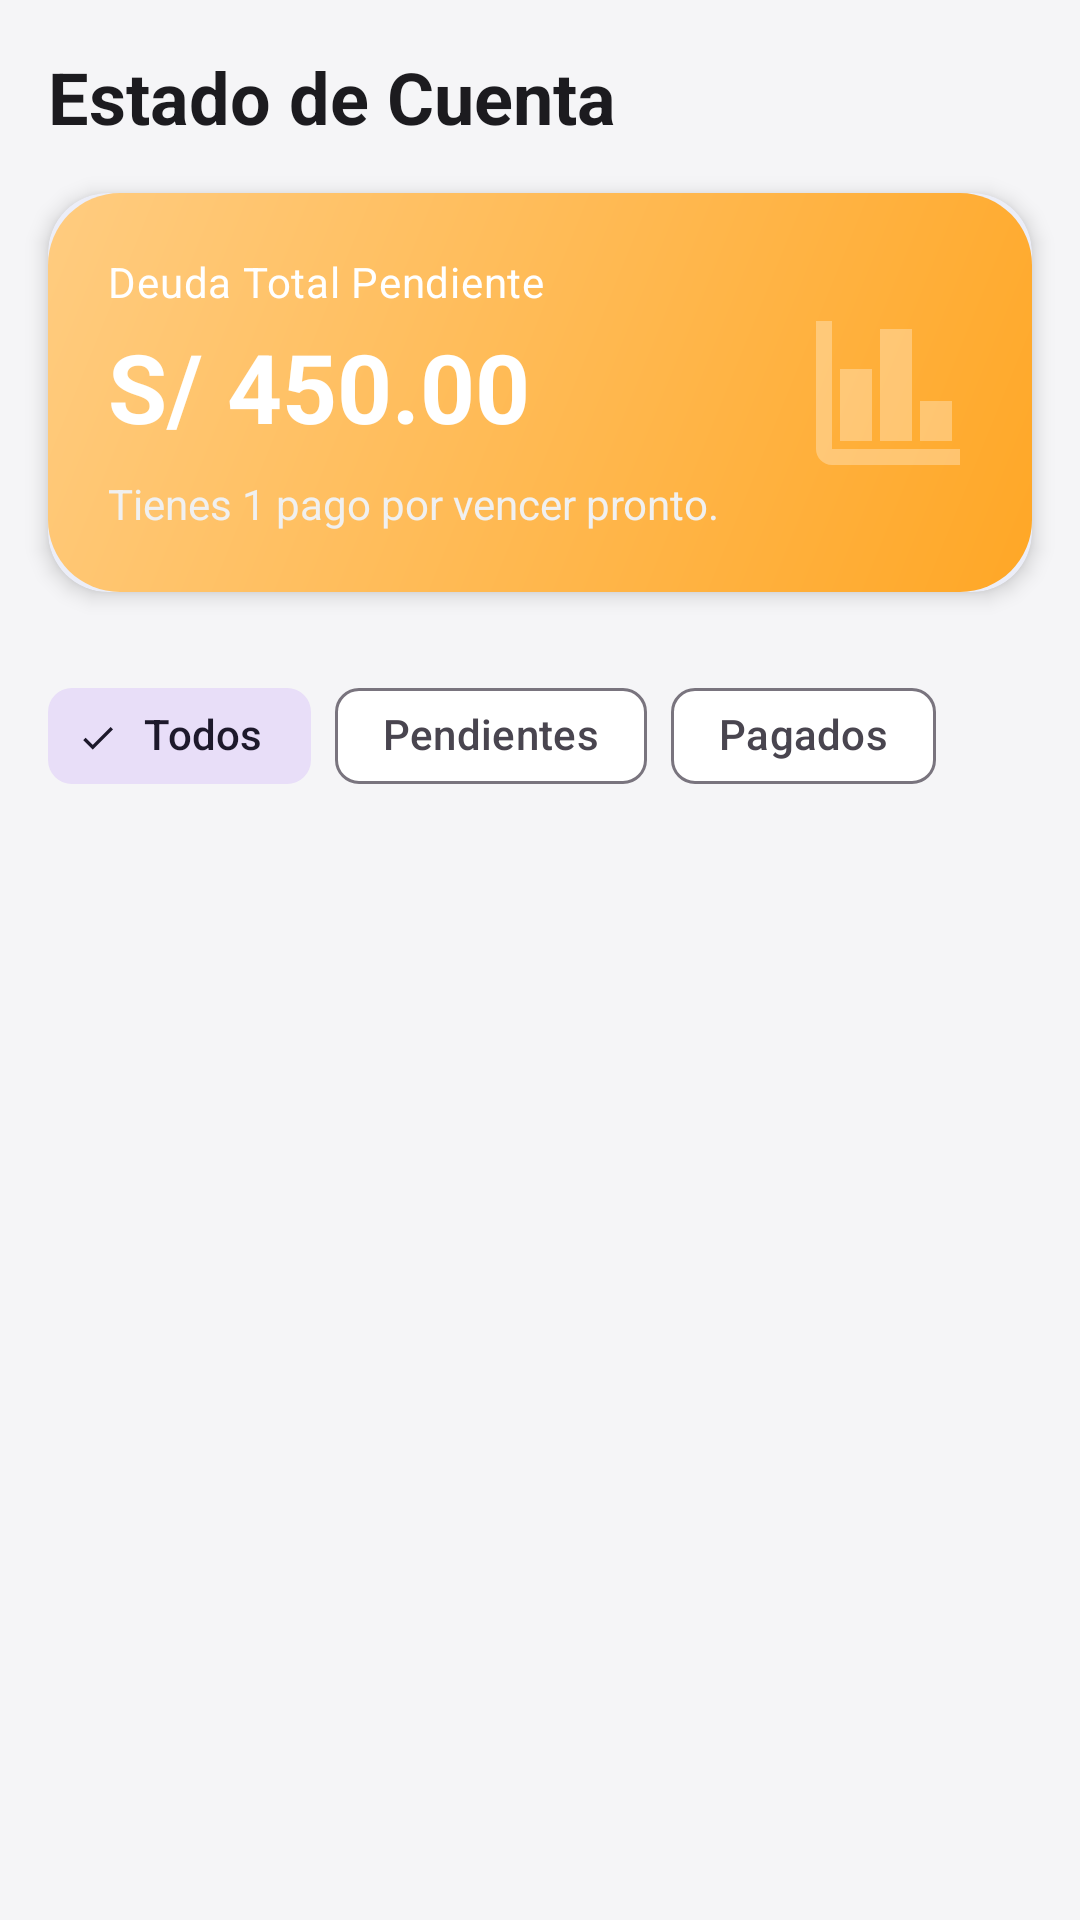

Screen size 1080x1920. Icon name, then its center in pixels as (x=x, y=y):
finance: (x=888, y=393)
